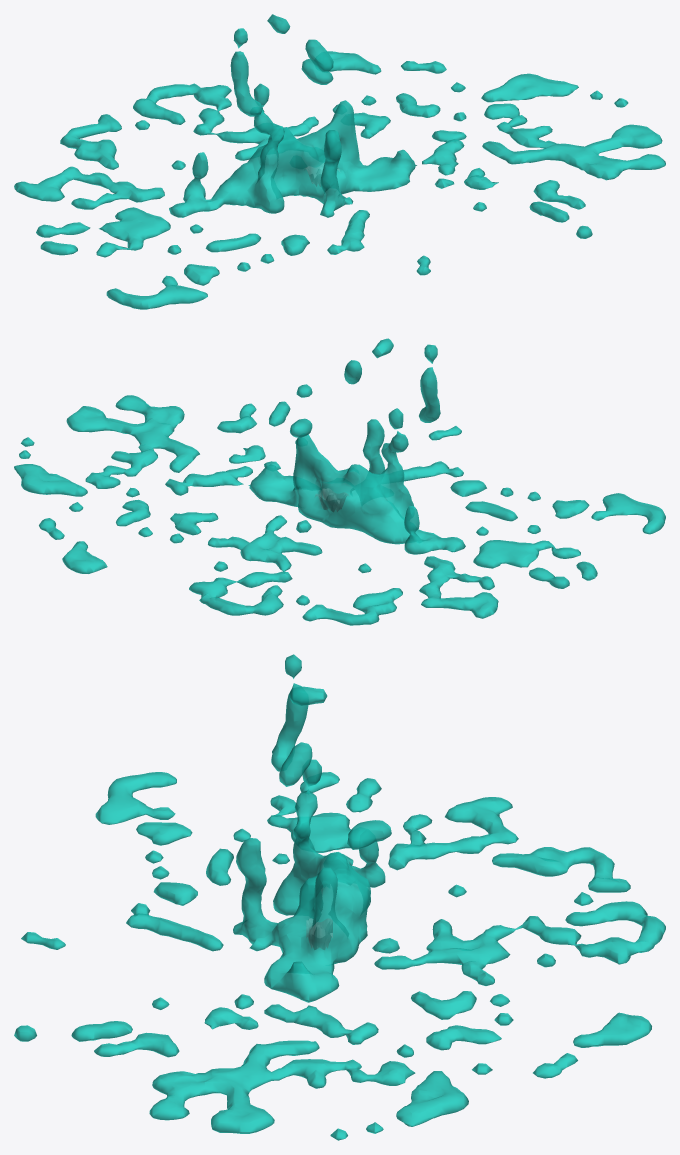
3 renders of one model, top to bottom at view 1: azimuth 30°, elevation 25°; view 2: azimuth 150°, elevation 25°; view 3: azimuth 270°, elevation 25°, orthographic. The views are drawn at different scales.
Parts seen in each view (by area): view 1: Liquid_Domain; view 2: Liquid_Domain, グリッド; view 3: Liquid_Domain.
Part boxes in pixels (box(x1,y1,x2,y2)): Liquid_Domain: box(14, 14, 665, 309); Liquid_Domain: box(14, 338, 665, 625); グリッド: box(315, 488, 348, 511); Liquid_Domain: box(14, 654, 665, 1140).
Bounding box in the file's own units: 9.6 × 2.97 × 7.29.
